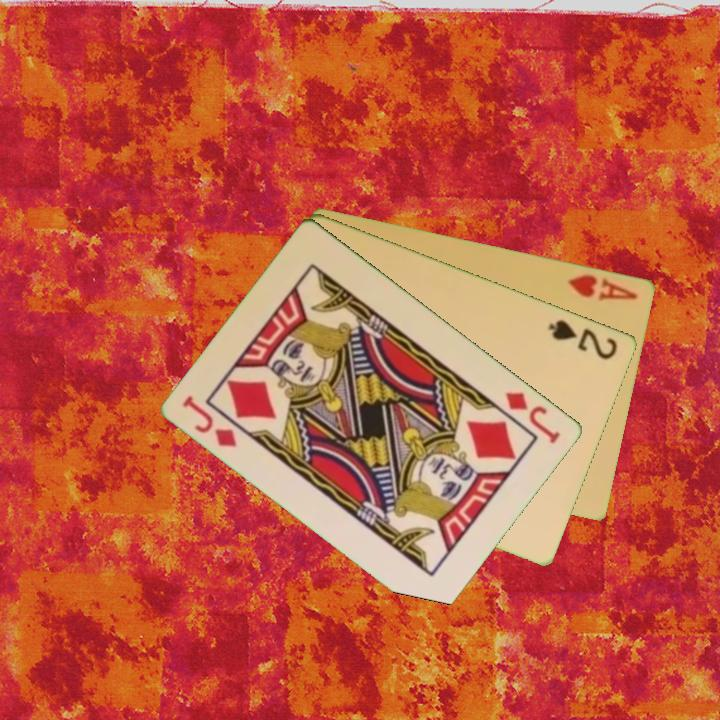2s: (544, 315, 621, 363)
Ah: (565, 270, 641, 304)
Jd: (502, 388, 564, 447), (179, 392, 241, 451)
